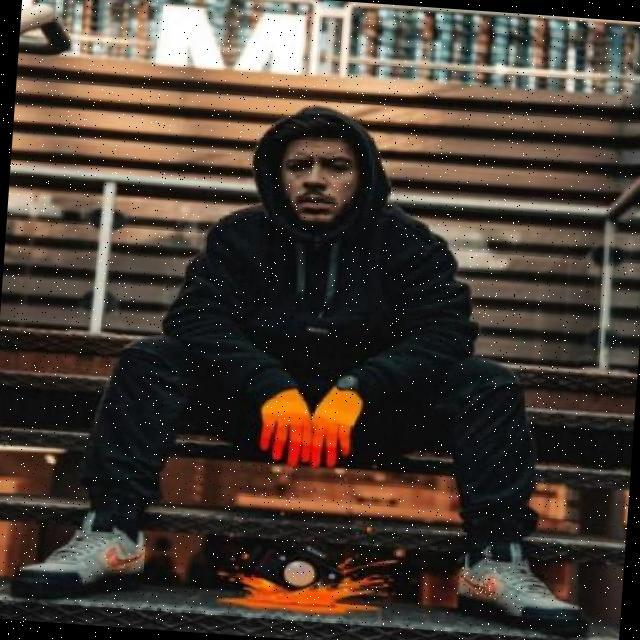Nike: (455, 564, 501, 599), (99, 538, 144, 570)
